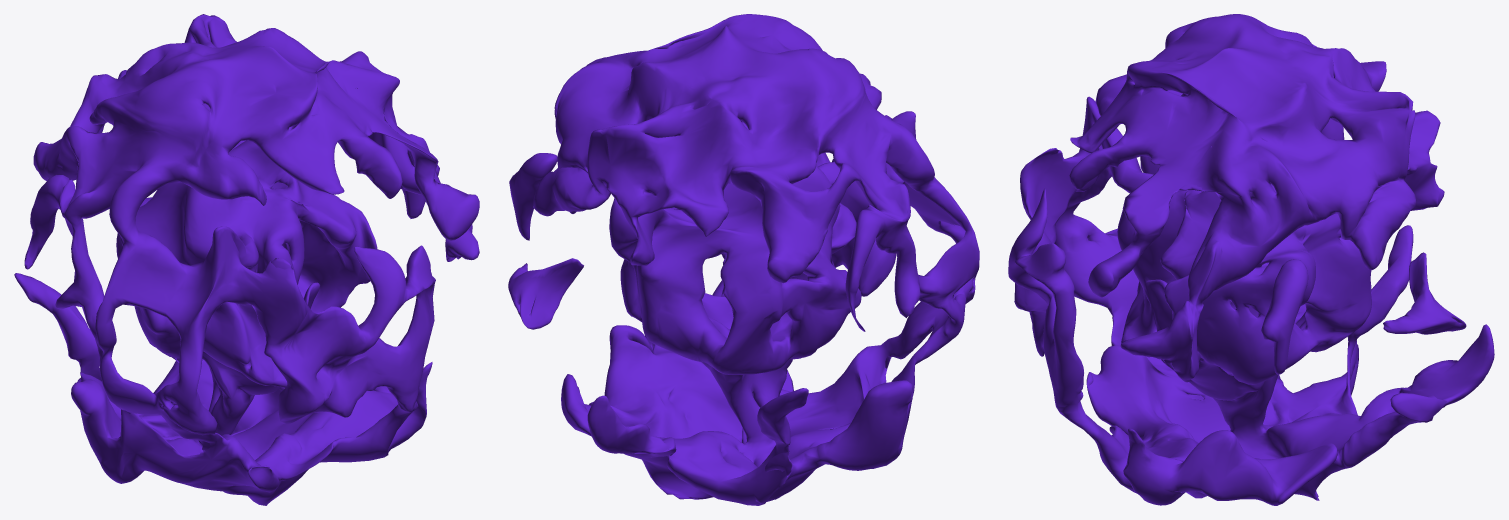
Rendered from hero_1.glb.
3 views of the same model, side by side, from view 1: azimuth 30°, elevation 25°; view 2: azimuth 150°, elevation 25°; view 3: azimuth 270°, elevation 25° (orthographic). The views are drawn at different scales.
Parts seen in each view (by area): view 1: model; view 2: model; view 3: model.
Boxes of the visible parts, box(x1,y1,x2,y2) form: model: box(14, 14, 479, 505); model: box(508, 14, 979, 505); model: box(1008, 14, 1494, 505).
Size of the model in its own units: 6.51 by 6.83 by 6.58.
